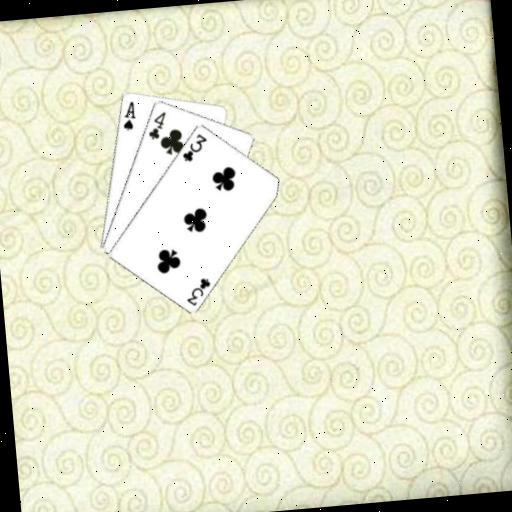3C: (177, 130, 210, 164), (182, 274, 215, 308)
4C: (143, 108, 169, 141)
AS: (118, 97, 138, 132)
